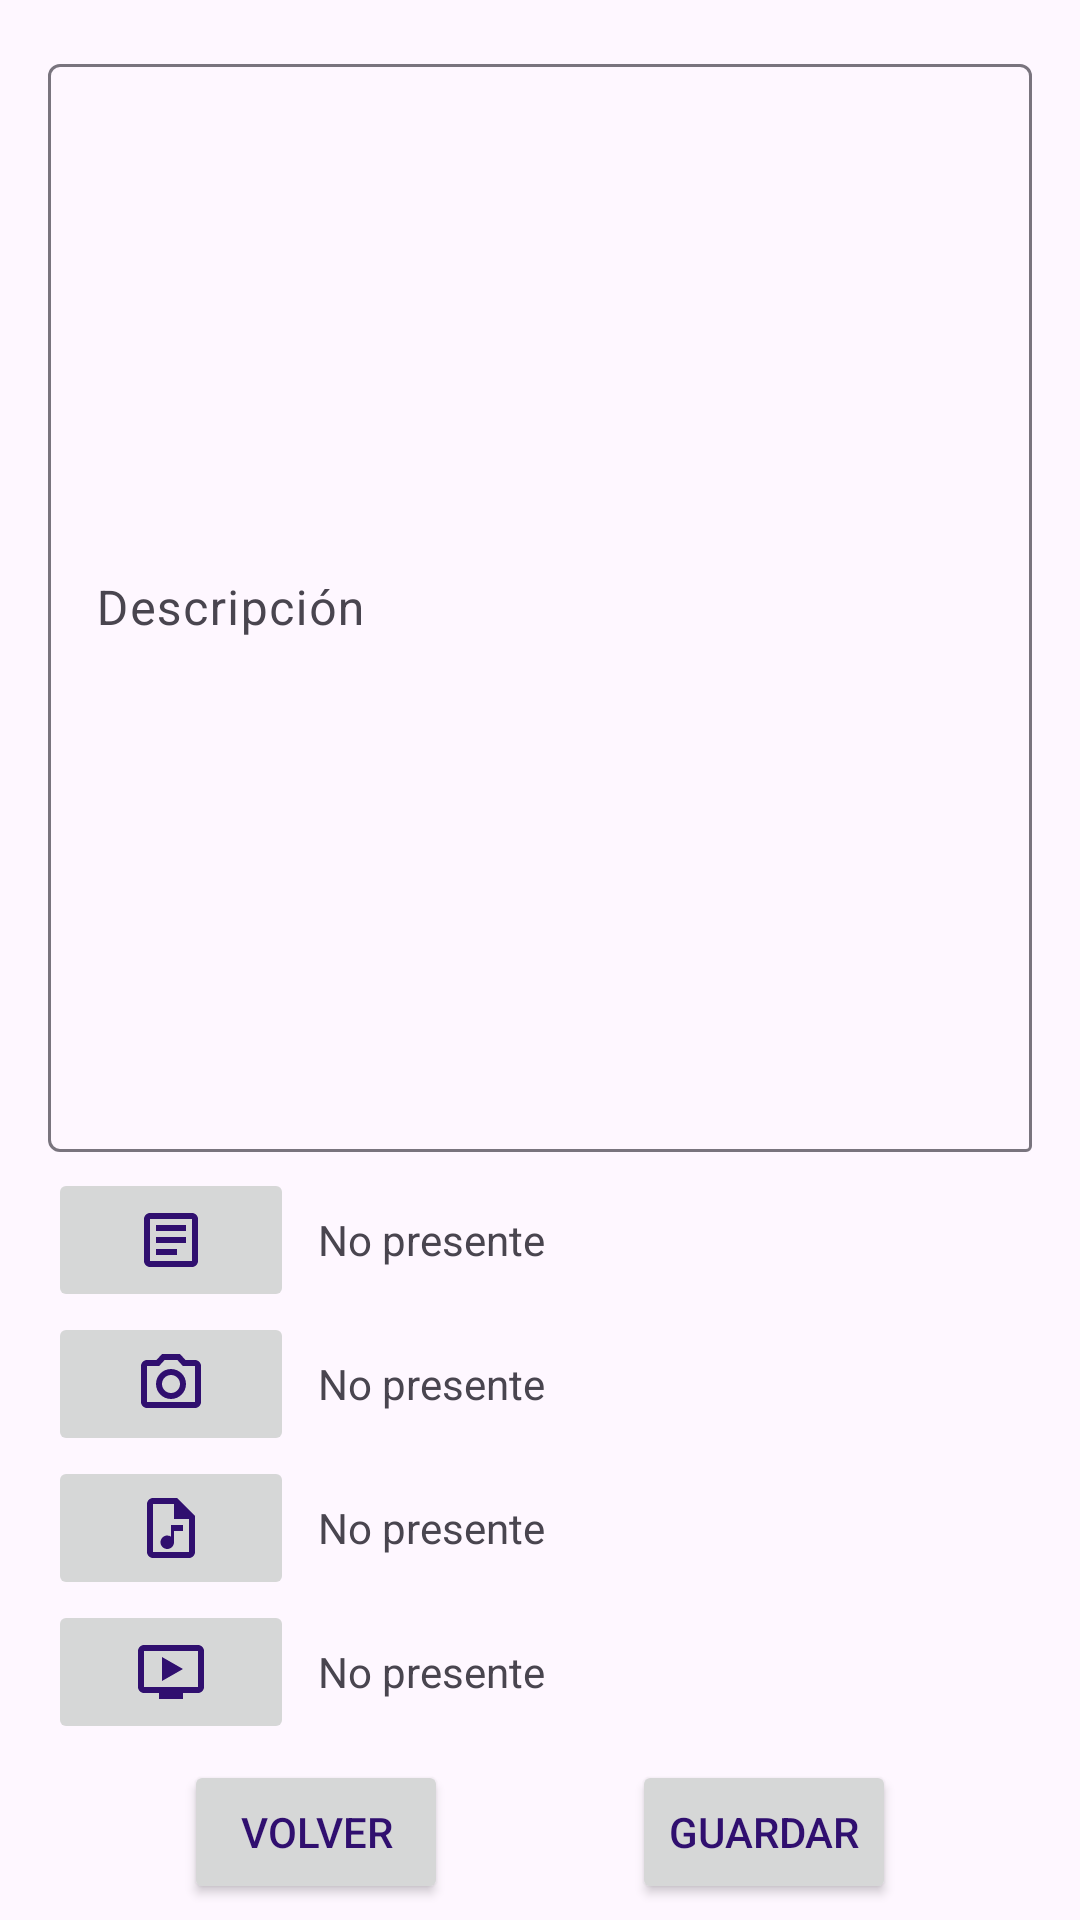

Screen size 1080 × 1920. Icon name, then its center in pixels as (x=x, y=y):
article: (x=171, y=1240)
audio file: (x=171, y=1528)
camera: (x=171, y=1384)
ondemand video: (x=171, y=1672)
